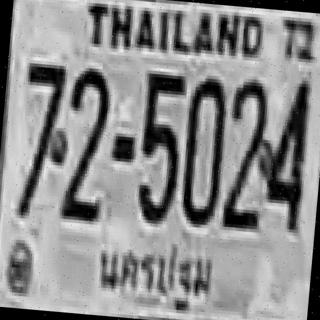N00: (178, 74, 228, 226)
N02: (58, 63, 111, 212), (61, 65, 111, 202), (221, 76, 270, 215)
N04: (260, 75, 312, 230)
N05: (133, 70, 185, 222)
N07: (13, 60, 67, 218), (17, 60, 66, 186), (20, 59, 66, 156)
P28: (89, 235, 219, 318)
